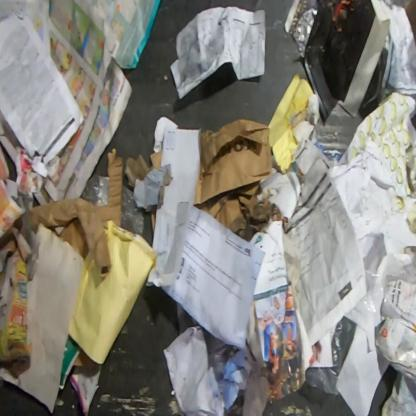cardboard: (23, 148, 124, 280), (309, 0, 391, 152), (192, 118, 290, 239), (134, 165, 174, 213), (124, 150, 163, 191), (292, 6, 318, 58), (150, 206, 157, 233)
metal: (303, 0, 376, 122)
soft_plastic: (306, 268, 392, 396), (240, 362, 271, 415), (120, 184, 146, 238), (79, 172, 109, 206)
